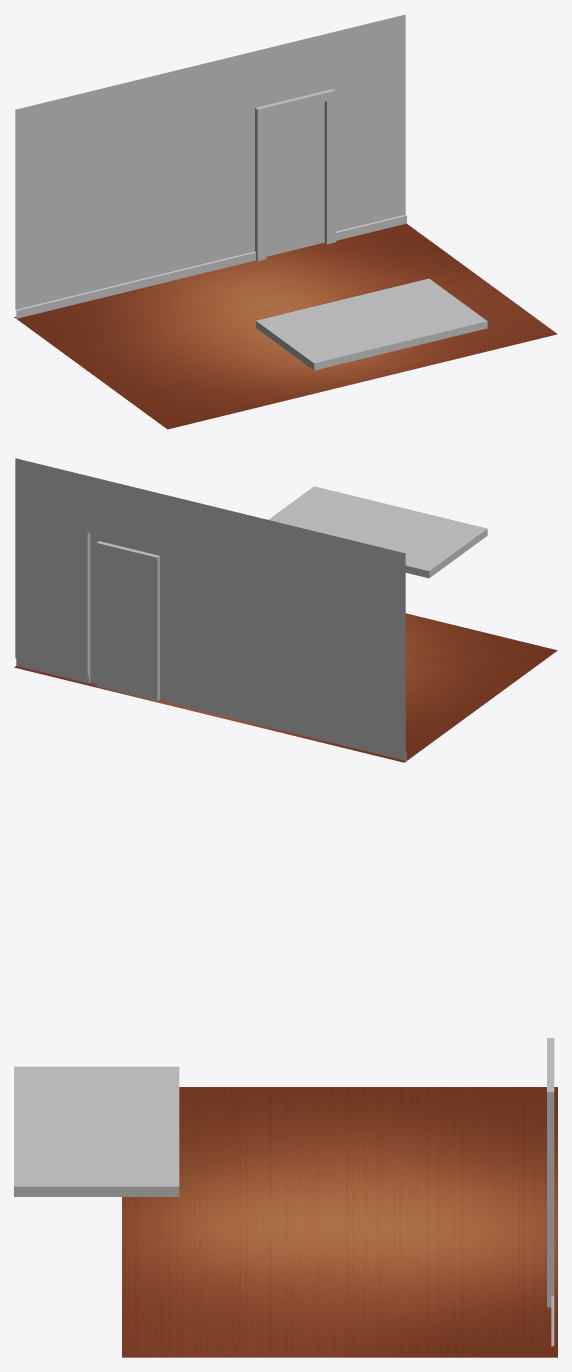
Rendered from scenes_001.FBX.
3 views of the same model, one above another, from view 1: azimuth 30°, elevation 25°; view 2: azimuth 150°, elevation 25°; view 3: azimuth 270°, elevation 25° (orthographic). The views are drawn at different scales.
Parts seen in each view (by area): view 1: scene_002_01, scene_002_02, scene_002_03; view 2: scene_002_01, scene_002_02, scene_002_03; view 3: scene_002_02, scene_002_03, scene_002_01.
Boxes of the visible parts, x1,y1,x2,y2 form: scene_002_01: (15,14,406,318); scene_002_02: (14,223,557,429); scene_002_03: (256,278,487,370); scene_002_01: (15,458,406,760); scene_002_02: (14,613,557,762); scene_002_03: (268,486,487,578); scene_002_02: (122,1087,557,1357); scene_002_03: (14,1066,179,1196); scene_002_01: (547,1038,554,1346).
Size of the model in its own units: 21671 by 11048 by 18416.
